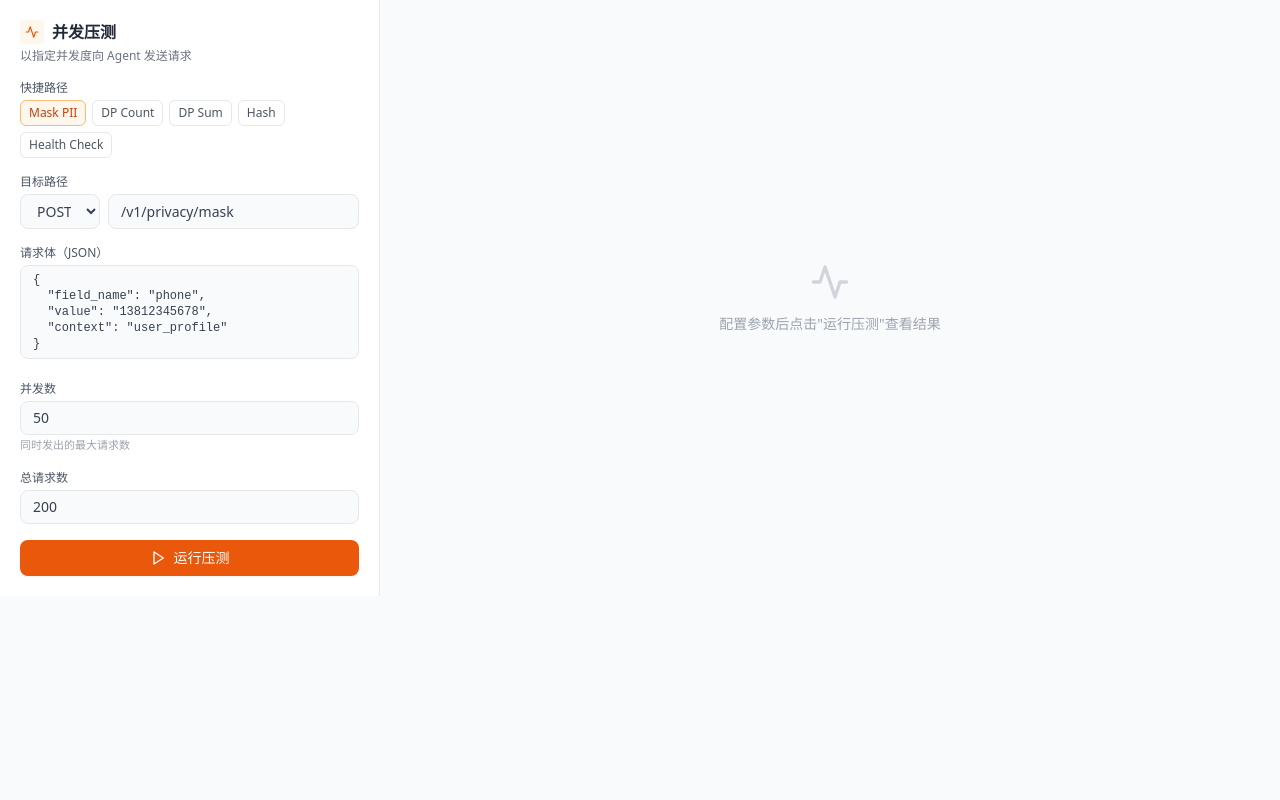
Test: ConcurrencyTestPanel › 运行压测：失败时显示错误信息
Click the button "运行压测".
click(190, 558)  # box [20,540,359,576]
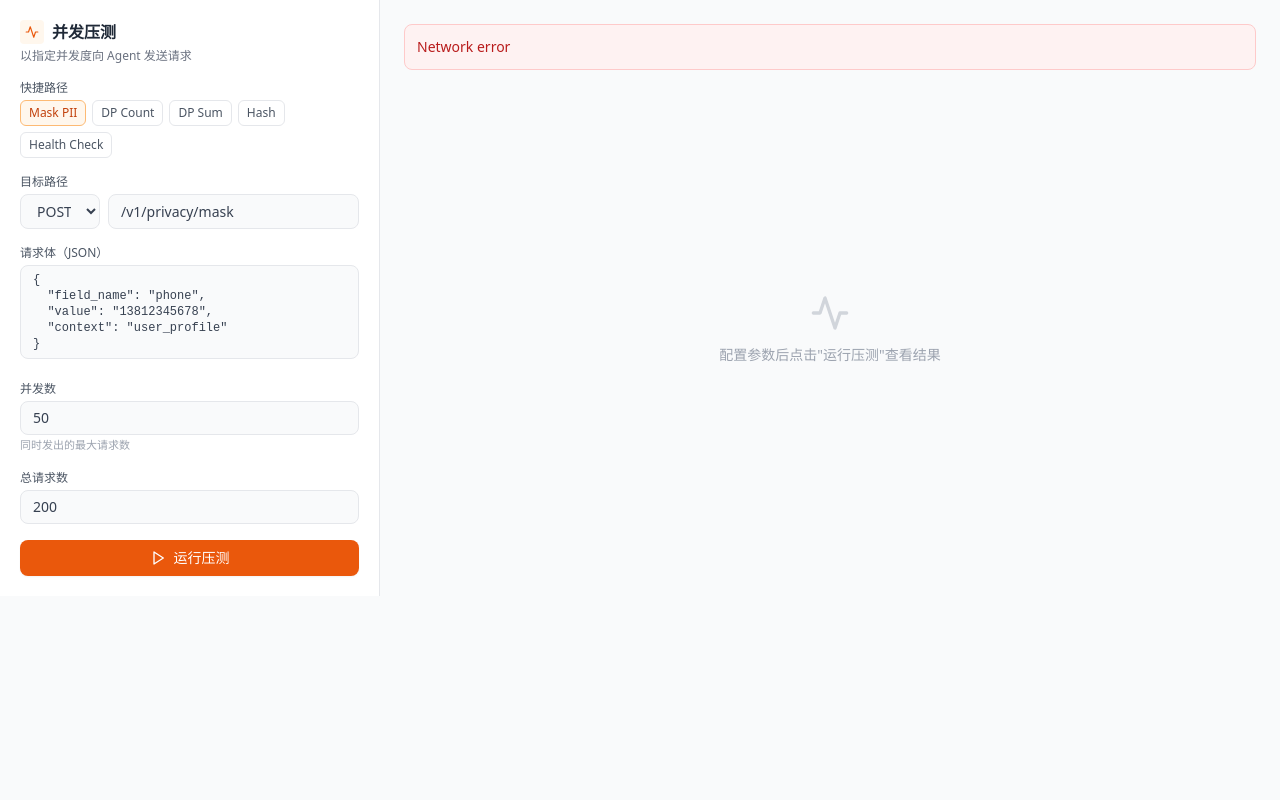
Check: the text "Network error" is shown, box [404,24,1256,70]
